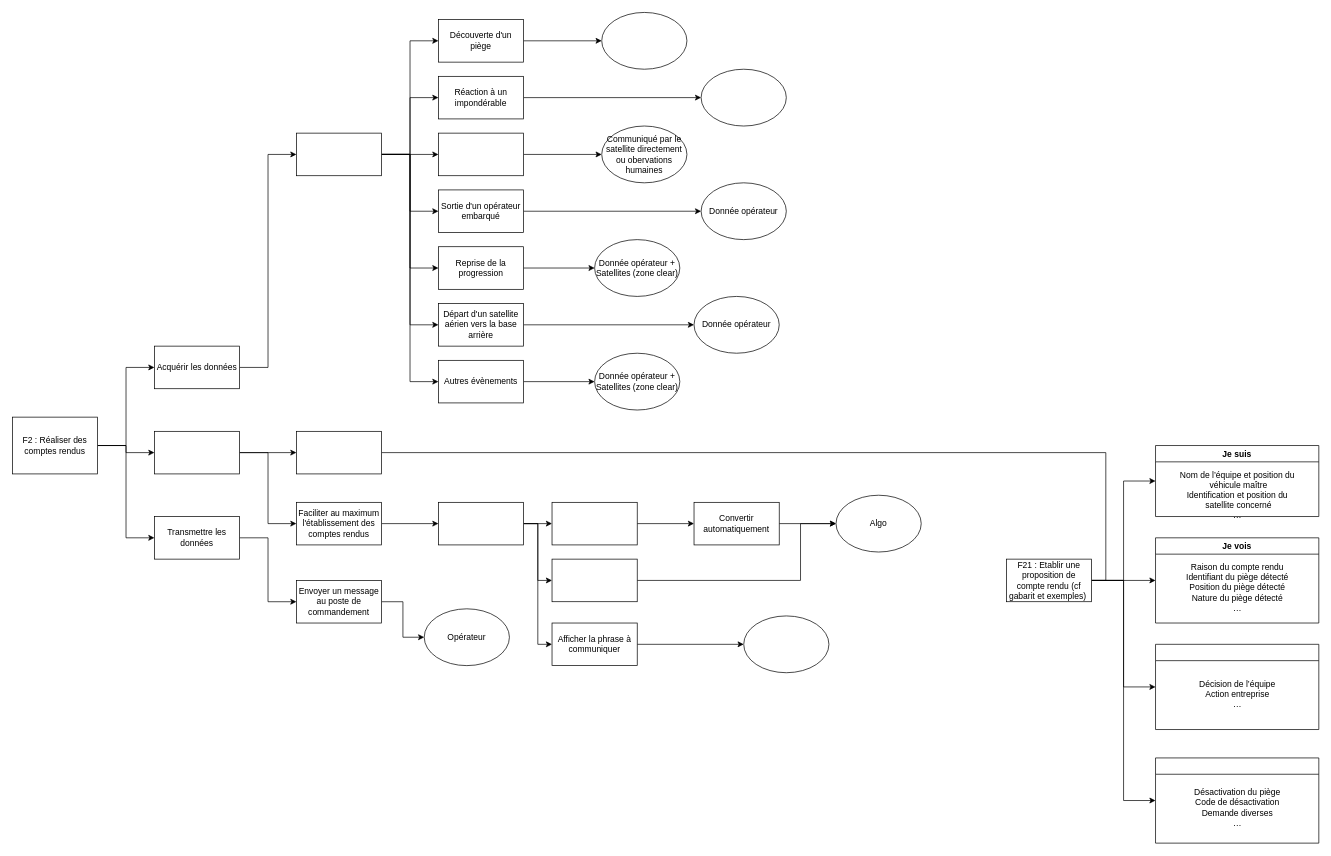
The diagram is 1331 pixels wide and 856 high, and some of its shapes have lost their labels. Here are the shapes that lost their labels. From the top down, the box of each, then its label:
(601, 12, 687, 69): Information donnée par un Husky ou un Drone
(700, 69, 786, 126): Impondérable fourni par la lecture du QR Code
(296, 132, 382, 176): Acquérir l'évènement
(438, 132, 524, 176): Problème technique sur un satellite
(154, 431, 240, 474): Formaliser les données
(296, 431, 382, 474): Respecter le gabarit des comptes rendus
(438, 502, 524, 545): Semi-Automatiser la forme/ structure des comptes rendus
(551, 502, 637, 545): Utiliser l'alphabet phonétique de l'OTAN
(551, 558, 637, 602): F21 : Etablir une proposition de compte rendu (cf gabarit et exemples) *
(743, 615, 829, 673): écran plateforme visuelle
(1155, 644, 1319, 730): Je fais
(1155, 757, 1319, 843): Je demande
